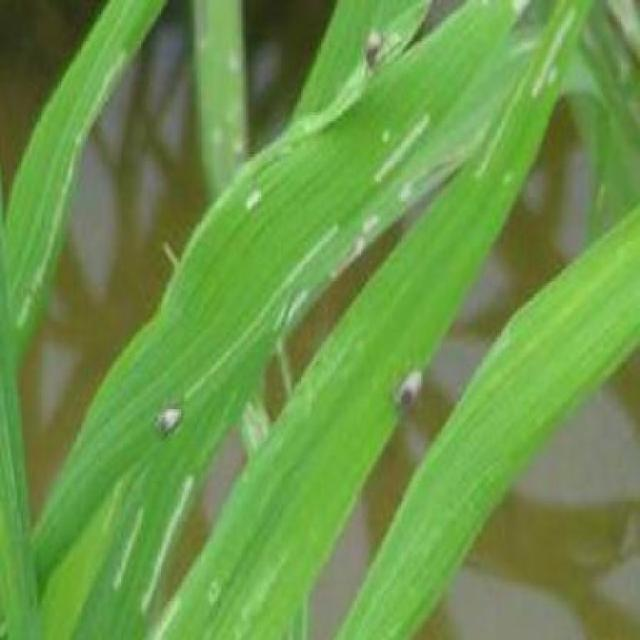rice-bug: (394, 368, 424, 412), (157, 397, 183, 441), (365, 28, 383, 69)
